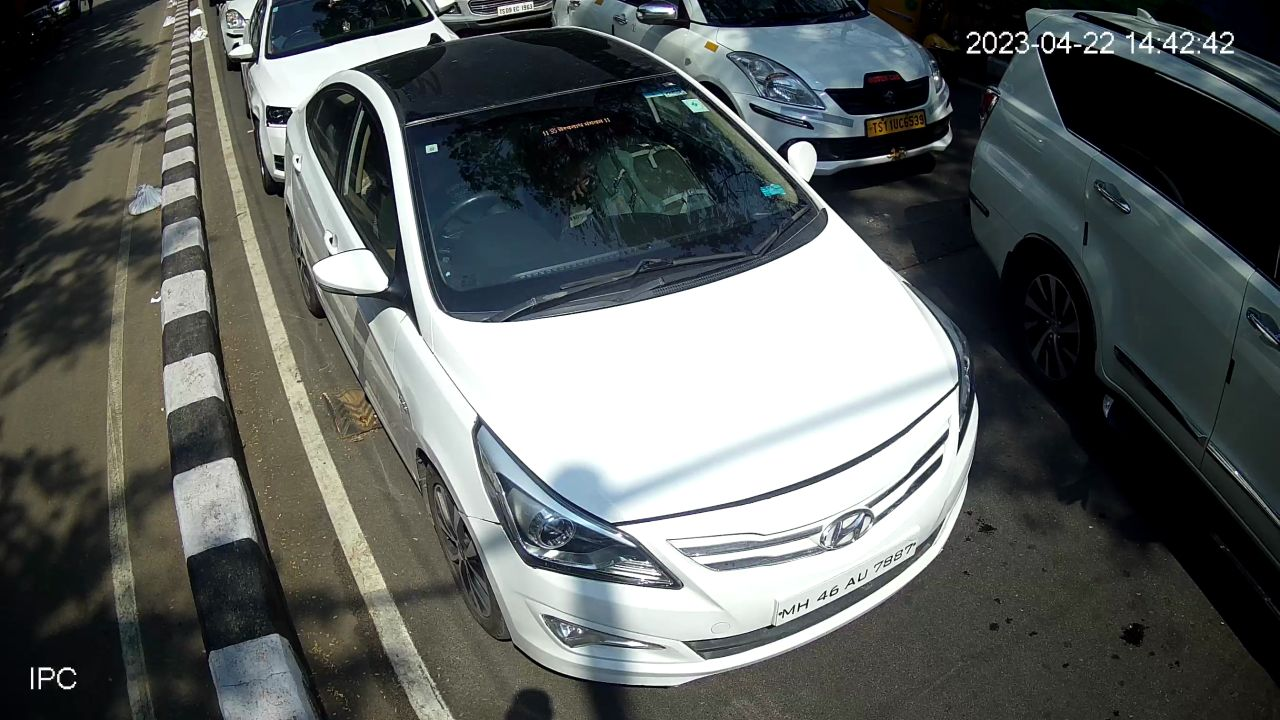license_plate: (762, 524, 928, 644), (861, 103, 933, 143)
